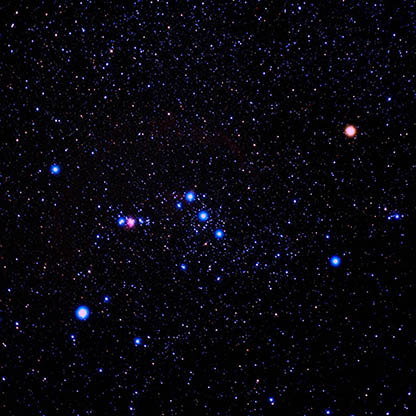Orion: (322, 244, 357, 283), (336, 113, 370, 145), (69, 303, 98, 328), (176, 179, 203, 203), (46, 158, 69, 184), (208, 221, 233, 244), (192, 204, 220, 220)
